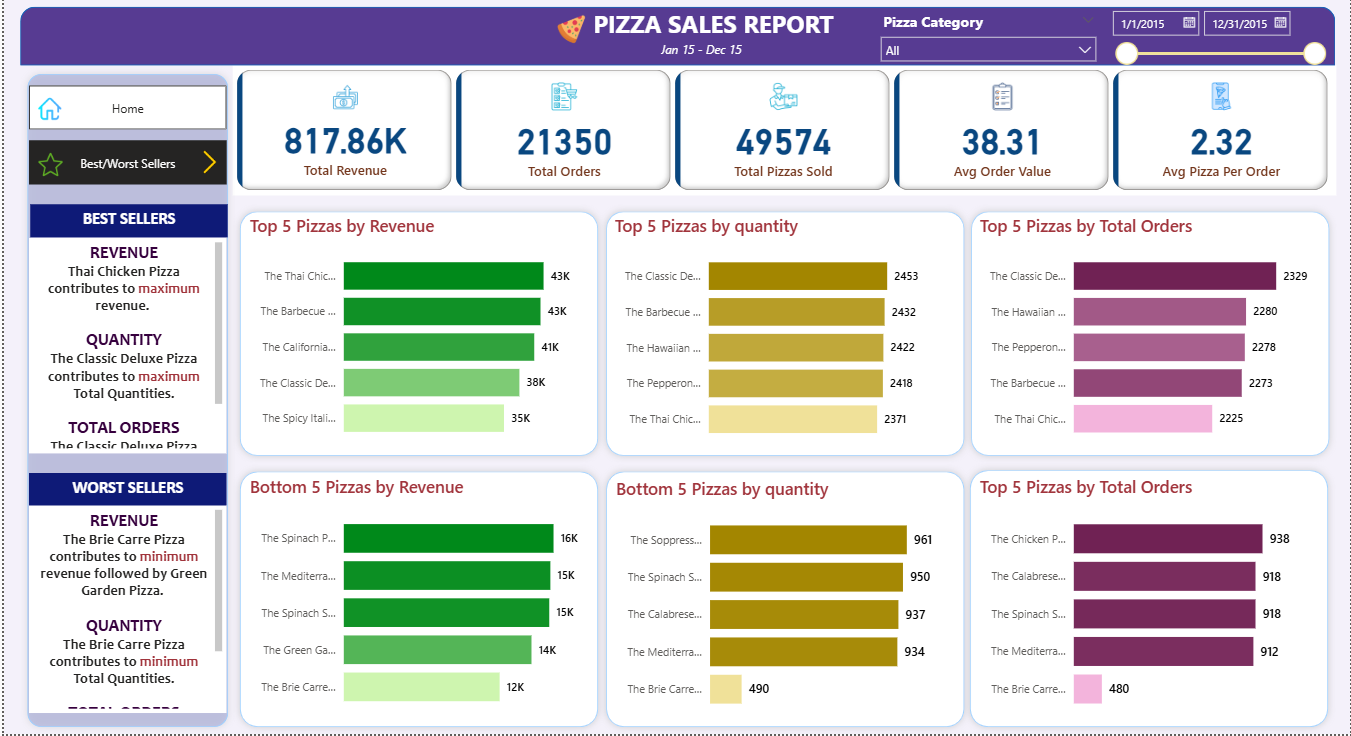

The dashboard page shown, as its layout file describes it:
{"tool":"powerbi","page":{"name":"Best/Worst Sellers","canvas":[1500,820],"ordinal":1},"visuals":[{"type":"cardVisual","fields":{"Data":["Order Items.Total Revenue","Order Items.Total Orders","Order Items.Total Pizzas Sold","Order Items.Avg Order Value","Order Items.Avg Pizza Per Order"]},"box":[254.9,75.2,1229.7,144.8],"z":0},{"type":"shape","box":[18.1,9.7,1465.1,65.5],"z":1000},{"type":"shape","box":[18.1,76.6,239.5,743.7],"z":2000},{"type":"textbox","box":[642,5.6,296.6,50.1],"z":3000},{"type":"textbox","box":[727,43.2,117,37.6],"z":4000},{"type":"image","box":[607.2,13.9,50.1,41.8],"z":5000},{"type":"shape","box":[254.9,519.5,415,300.8],"z":6000},{"type":"shape","box":[1068.2,518.1,415,302.2],"z":7000},{"type":"shape","box":[662.9,519.5,415,300.8],"z":8000},{"type":"textbox","box":[28.9,230,220.3,37],"z":9000},{"type":"textbox","box":[27.3,266.9,220.3,239.6],"z":10000},{"type":"textbox","box":[27.3,529.1,220.3,37],"z":11000},{"type":"textbox","box":[27.3,566,220.3,231.6],"z":12000},{"type":"slicer","fields":{"Values":["Pizza Types.pizza_category"]},"box":[966.5,9.7,260.4,65.5],"z":13000},{"type":"slicer","fields":{"Values":["Orders.order_date"]},"box":[1222.1,4.8,258.9,75.6],"z":14000},{"type":"shape","box":[254.9,229.8,415,288.3],"z":15000},{"type":"shape","box":[662.9,229.8,415,288.3],"z":16000},{"type":"shape","box":[1069.6,229.8,415,288.3],"z":17000},{"type":"barChart","title":"Top 5 Pizzas by Revenue","fields":{"Category":["Pizza Types.pizza_name"],"Y":["Order Items.Total Revenue"]},"box":[268.8,240.9,388.6,264.6],"z":18000},{"type":"barChart","title":"Bottom 5 Pizzas by Revenue","fields":{"Category":["Pizza Types.pizza_name"],"Y":["Order Items.Total Revenue"]},"box":[268.8,532,388.6,274.4],"z":19000},{"type":"barChart","title":"Top 5 Pizzas by quantity","fields":{"Category":["Pizza Types.pizza_name"],"Y":["Order Items.Total Pizzas Sold"]},"box":[675.4,240.9,388.6,266],"z":20000},{"type":"barChart","title":"Bottom 5 Pizzas by quantity","fields":{"Category":["Pizza Types.pizza_name"],"Y":["Order Items.Total Pizzas Sold"]},"box":[676.8,533.4,388.6,275.7],"z":21000},{"type":"barChart","title":"Top 5 Pizzas by Total Orders","fields":{"Y":["Order Items.Distinct count"],"Category":["Pizzas.pizza_name"]},"box":[1082.2,241.2,389.2,265.3],"z":22000},{"type":"barChart","title":"Top 5 Pizzas by Total Orders","fields":{"Y":["Order Items.Distinct count"],"Category":["Pizzas.pizza_name"]},"box":[1082.1,532,388.6,277.1],"z":23000},{"type":"pageNavigator","box":[27.3,159.2,220.3,49.9],"z":24000},{"type":"pageNavigator","box":[27.3,98.1,220.3,49.9],"z":25000},{"type":"image","box":[212.3,159.2,35.4,48.2],"z":26000},{"type":"image","box":[33.8,106.1,35.4,35.4],"z":27000},{"type":"image","box":[27.3,167.2,48.2,37],"z":28000}]}

Visuals, with their boxes in screenshot pixels (x1, y1, x2, y2), scaled from the page's 1500x820 canvas onto the 1351x736 screenshot:
cardVisual - Order Items.Total Revenue x Order Items.Total Orders: left=230, top=67, right=1337, bottom=197
shape: left=16, top=9, right=1336, bottom=67
shape: left=16, top=69, right=232, bottom=735
textbox: left=578, top=5, right=845, bottom=50
textbox: left=655, top=39, right=760, bottom=73
image: left=547, top=12, right=592, bottom=50
shape: left=230, top=466, right=603, bottom=735
shape: left=962, top=465, right=1336, bottom=735
shape: left=597, top=466, right=971, bottom=735
textbox: left=26, top=206, right=224, bottom=240
textbox: left=25, top=240, right=223, bottom=455
textbox: left=25, top=475, right=223, bottom=508
textbox: left=25, top=508, right=223, bottom=716
slicer - Pizza Types.pizza_category: left=870, top=9, right=1105, bottom=67
slicer - Orders.order_date: left=1101, top=4, right=1334, bottom=72
shape: left=230, top=206, right=603, bottom=465
shape: left=597, top=206, right=971, bottom=465
shape: left=963, top=206, right=1337, bottom=465
"Top 5 Pizzas by Revenue" barChart: left=242, top=216, right=592, bottom=454
"Bottom 5 Pizzas by Revenue" barChart: left=242, top=478, right=592, bottom=724
"Top 5 Pizzas by quantity" barChart: left=608, top=216, right=958, bottom=455
"Bottom 5 Pizzas by quantity" barChart: left=610, top=479, right=960, bottom=726
"Top 5 Pizzas by Total Orders" barChart: left=975, top=216, right=1325, bottom=455
"Top 5 Pizzas by Total Orders" barChart: left=975, top=478, right=1325, bottom=726
pageNavigator: left=25, top=143, right=223, bottom=188
pageNavigator: left=25, top=88, right=223, bottom=133
image: left=191, top=143, right=223, bottom=186
image: left=30, top=95, right=62, bottom=127
image: left=25, top=150, right=68, bottom=183
